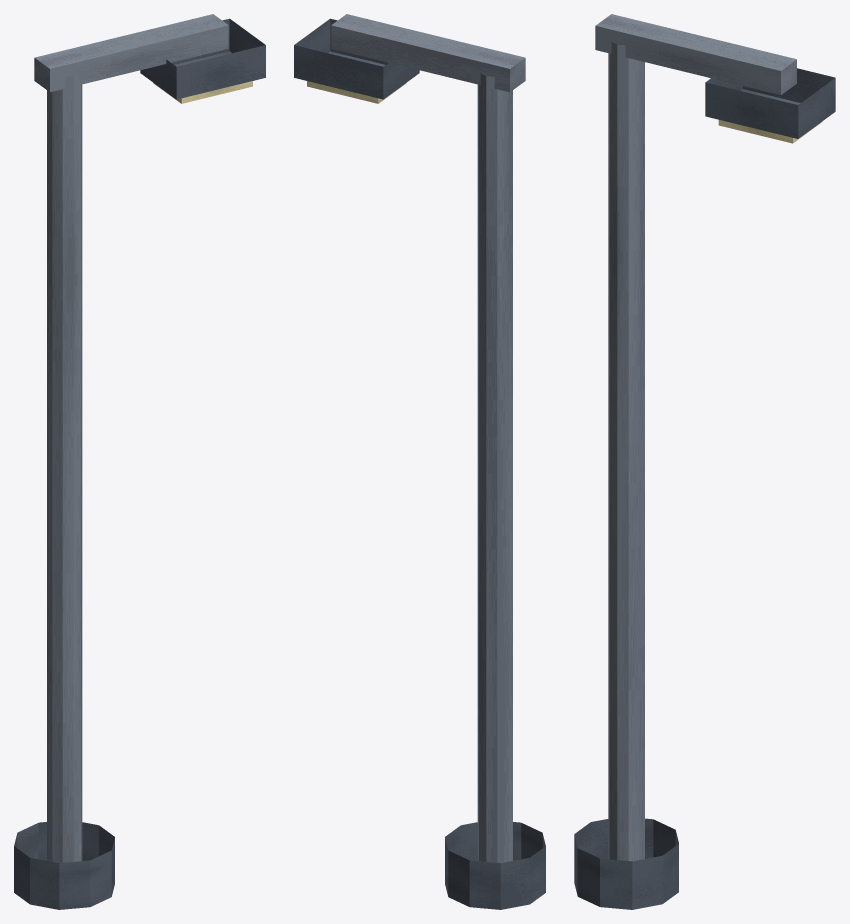
The model's file is prop_lamp.glb.
3 renders of one model, left to right at view 1: azimuth 30°, elevation 25°; view 2: azimuth 150°, elevation 25°; view 3: azimuth 330°, elevation 25°, orthographic. The views are drawn at different scales.
Parts seen in each view (by area): view 1: prop_lamp; view 2: prop_lamp; view 3: prop_lamp.
Boxes of the visible parts, x1,y1,x2,y2 form: prop_lamp: (14,14,265,909); prop_lamp: (294,14,545,909); prop_lamp: (574,14,835,909).
Size of the model in its own units: 1.01 by 3.55 by 0.4.
Materials: 1 (1 with a texture image).
